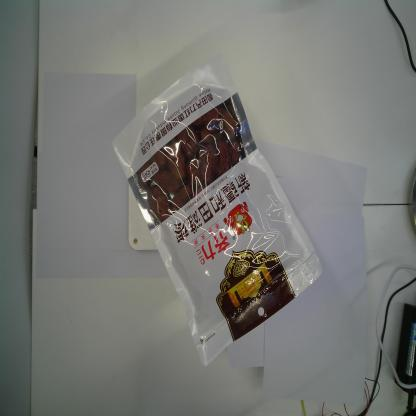Dried Food: (108, 51, 324, 373)
